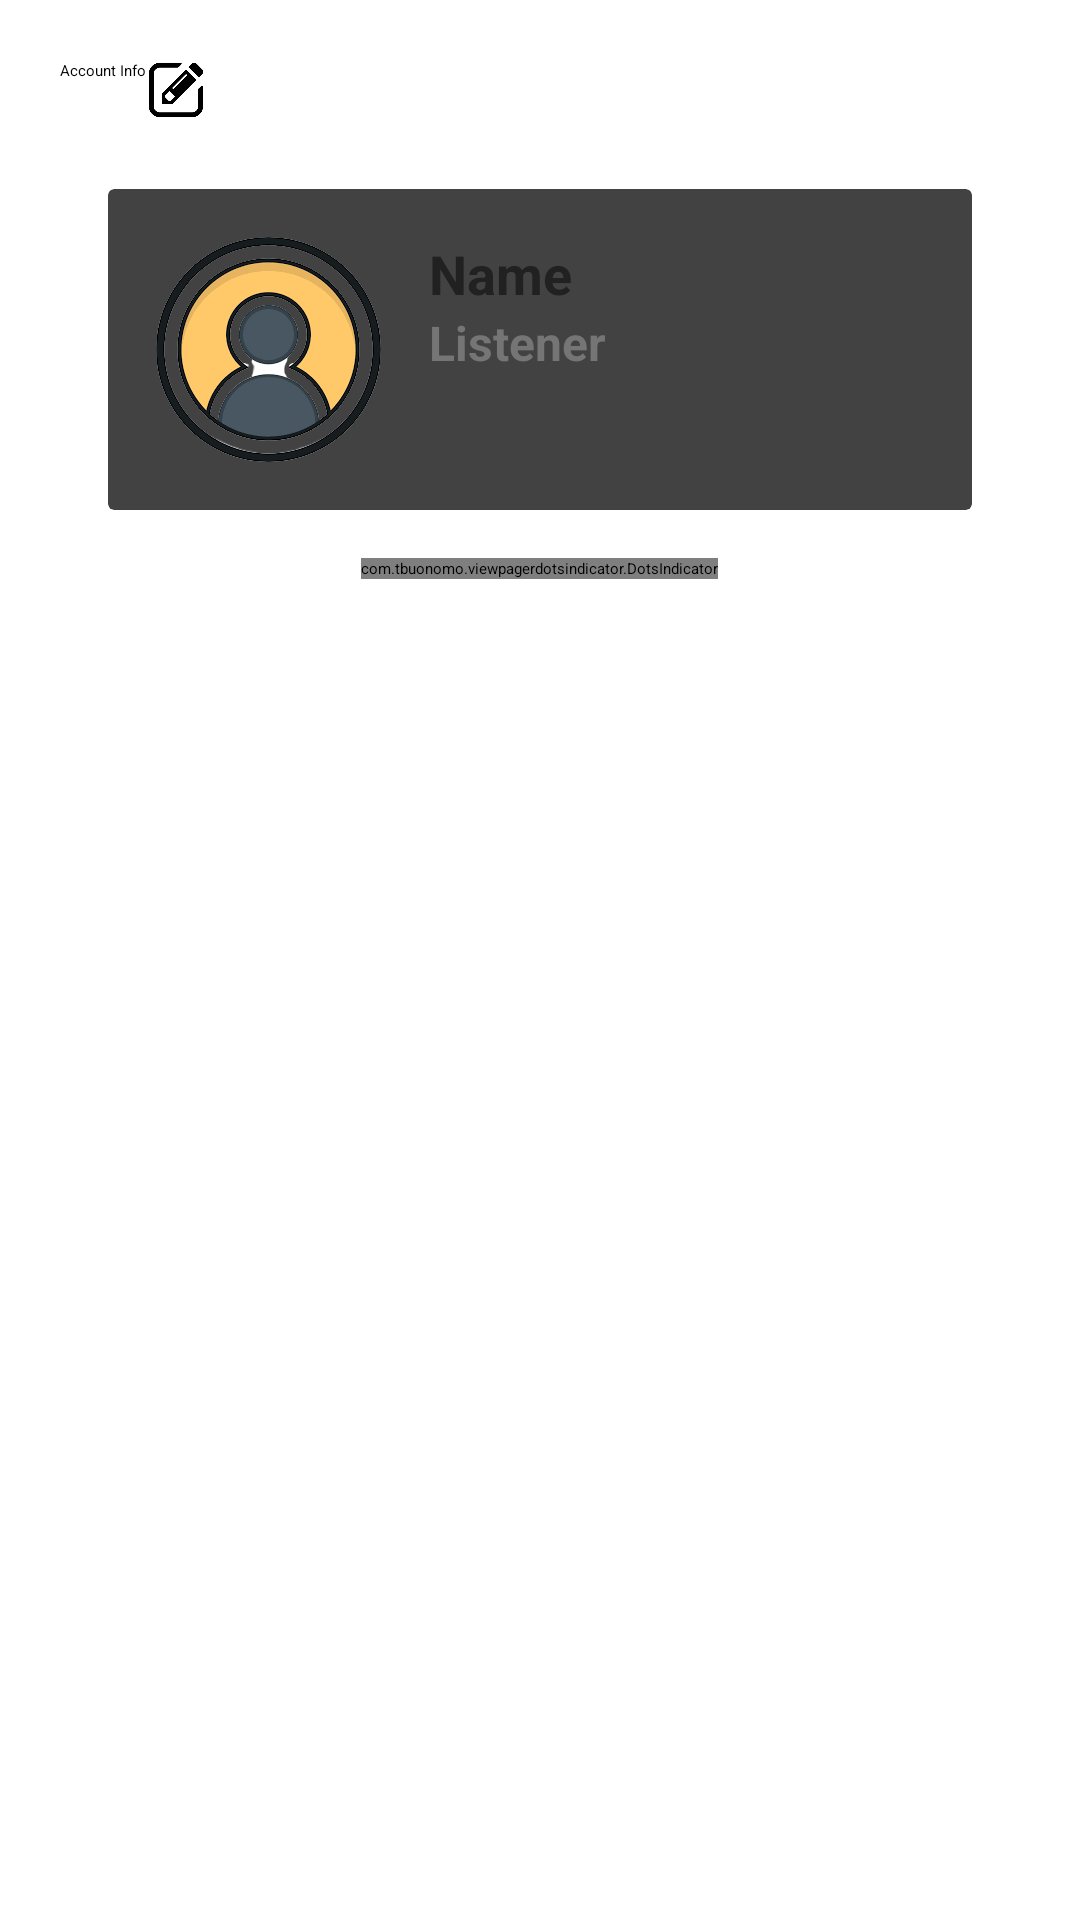

Where icons sit on this 1080px×1920px app screen, as (x1, y1, x2, y2):
edit: (149, 63, 203, 117)
user profile: (157, 237, 381, 462)
